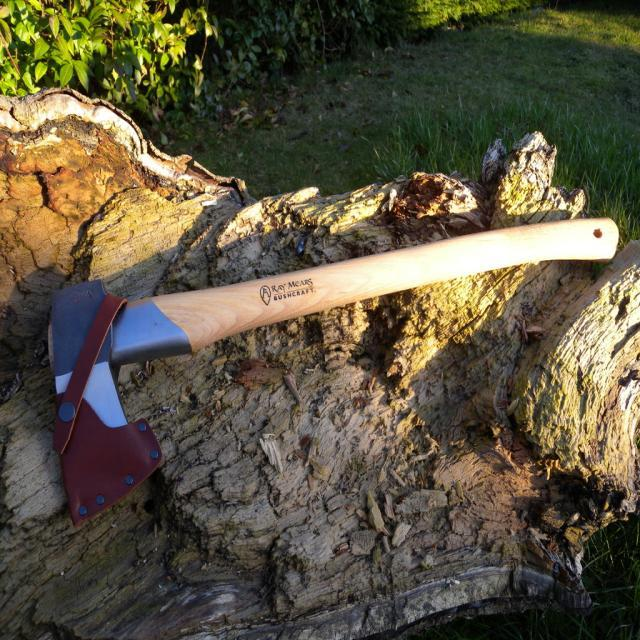Axe: (50, 219, 619, 523)
